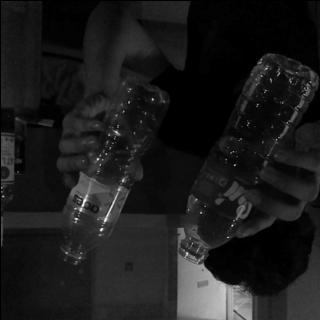plastic_bottles: (175, 62, 312, 264), (56, 73, 167, 271)
